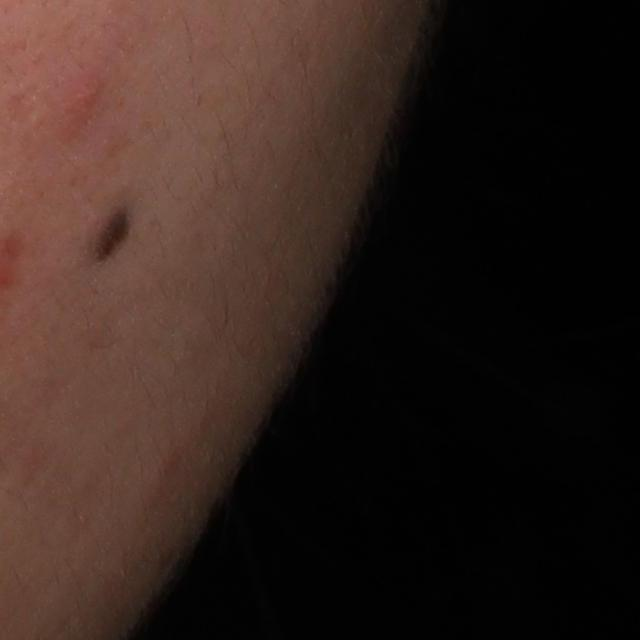nevus: (86, 199, 133, 266)
papule: (61, 70, 109, 128)
